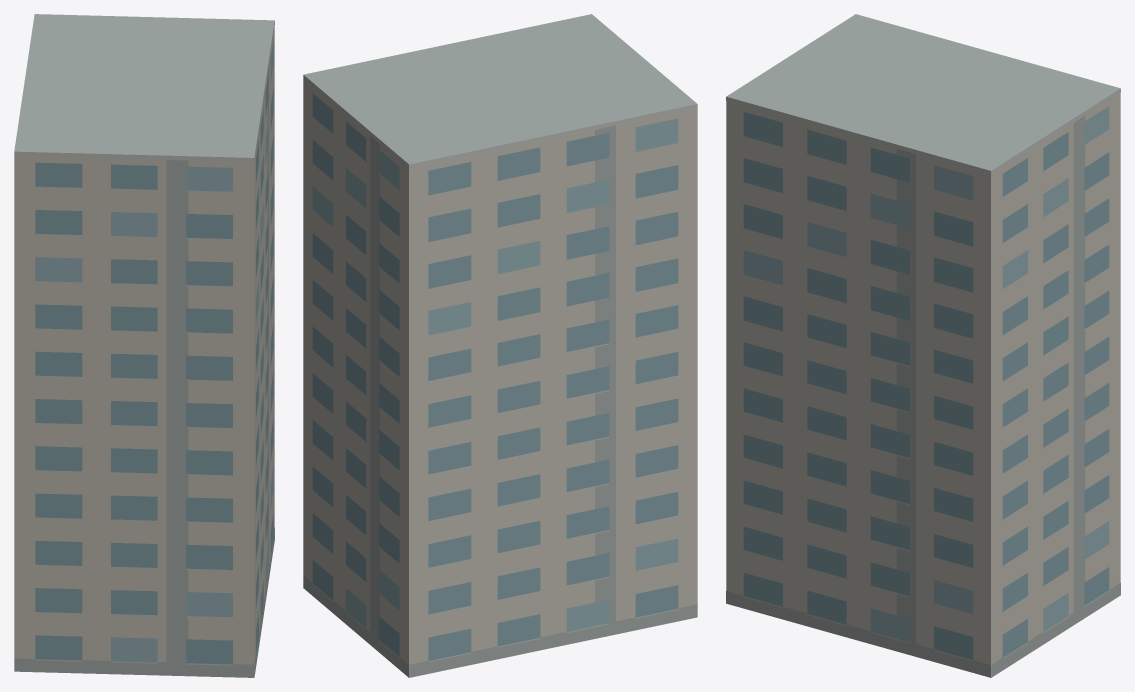
Rendered from residential-730a256a-f7dd-4807-8a4c-44a3cfc3e83e.glb.
3 views of the same model, side by side, from view 1: azimuth 30°, elevation 25°; view 2: azimuth 150°, elevation 25°; view 3: azimuth 270°, elevation 25° (orthographic). The views are drawn at different scales.
Visible parts, largest first — view 1: residential-730a256a-f7dd-4807-8a4c-44a3cfc3e83e.tmp; view 2: residential-730a256a-f7dd-4807-8a4c-44a3cfc3e83e.tmp; view 3: residential-730a256a-f7dd-4807-8a4c-44a3cfc3e83e.tmp.
Boxes of the visible parts, bbox=[...] form: residential-730a256a-f7dd-4807-8a4c-44a3cfc3e83e.tmp: bbox=[14, 14, 274, 677]; residential-730a256a-f7dd-4807-8a4c-44a3cfc3e83e.tmp: bbox=[303, 14, 697, 677]; residential-730a256a-f7dd-4807-8a4c-44a3cfc3e83e.tmp: bbox=[726, 14, 1120, 677].
Bounding box in the file's own units: 19.26 × 29 × 20.47.
